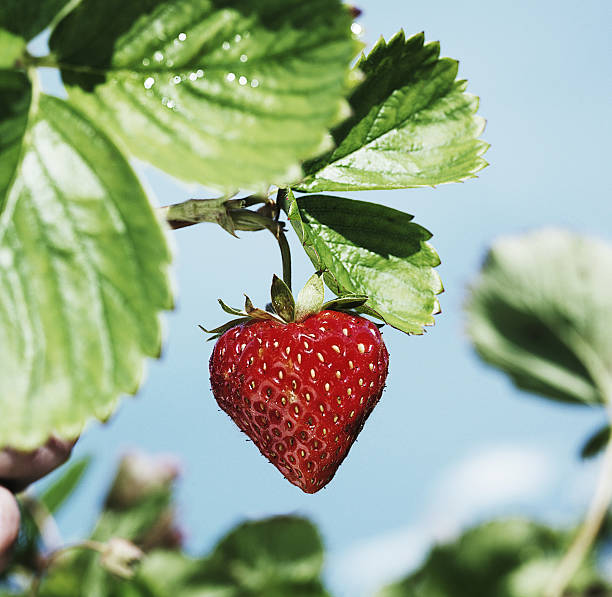Fresa: (206, 295, 395, 495)
